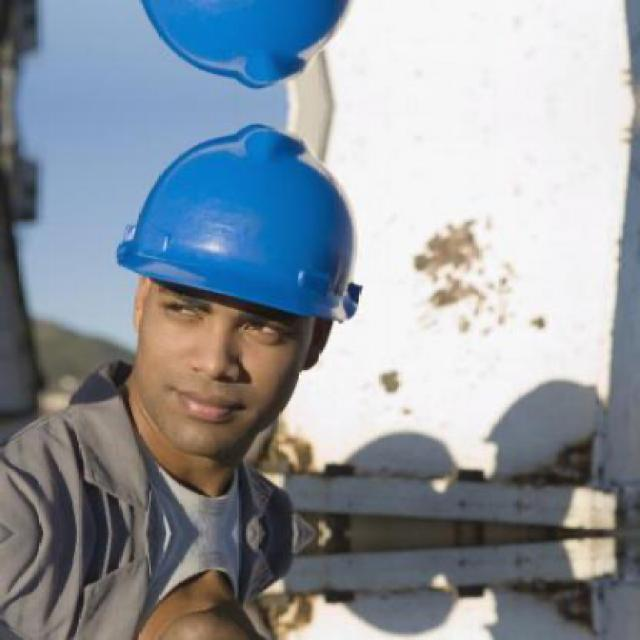helmet: (84, 106, 384, 483), (85, 0, 386, 108)
